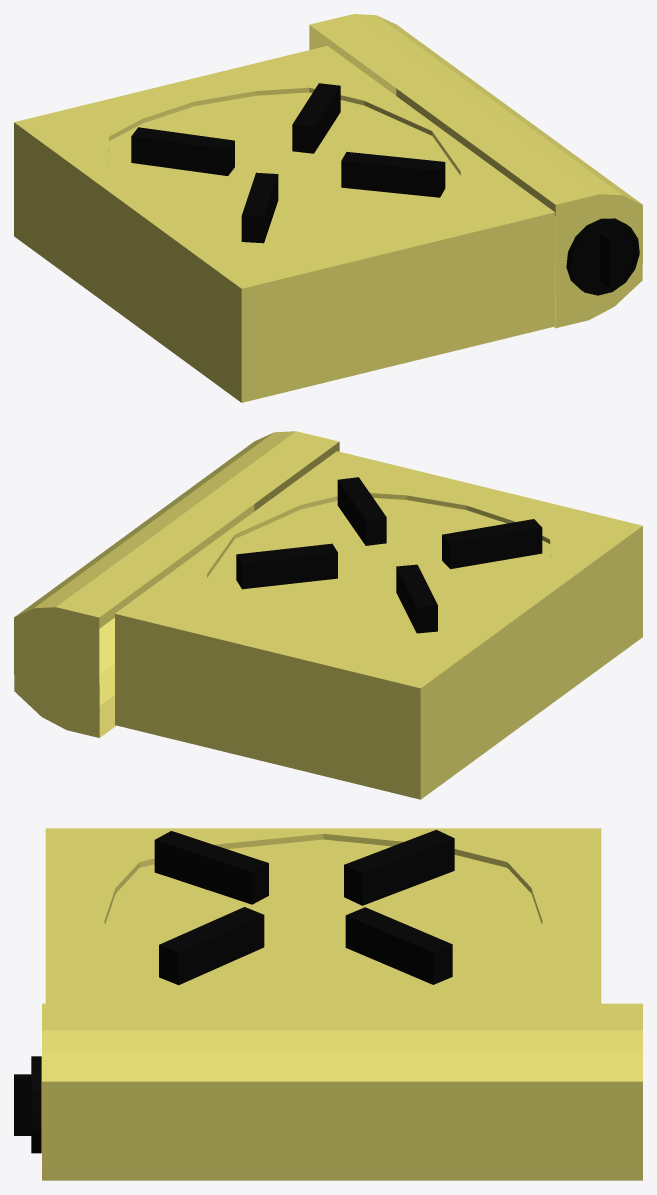
Rendered from gasburner.fbx.
The picture shows the model from 3 angles, top to bottom: view 1: azimuth 30°, elevation 25°; view 2: azimuth 150°, elevation 25°; view 3: azimuth 270°, elevation 25°; orthographic projection. The views are drawn at different scales.
Visible parts, largest first — view 1: gasburner; view 2: gasburner; view 3: gasburner.
Boxes of the visible parts, x1=… form: gasburner: x1=14, y1=14, x2=642, y2=402; gasburner: x1=14, y1=431, x2=642, y2=799; gasburner: x1=14, y1=828, x2=642, y2=1180.
Size of the model in its own units: 203 by 67.25 by 226.
